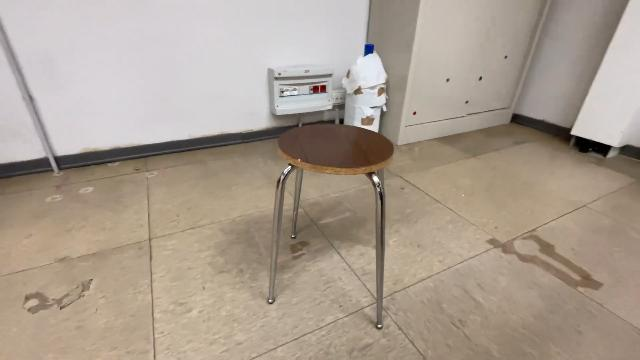Stool: (258, 120, 398, 336)
